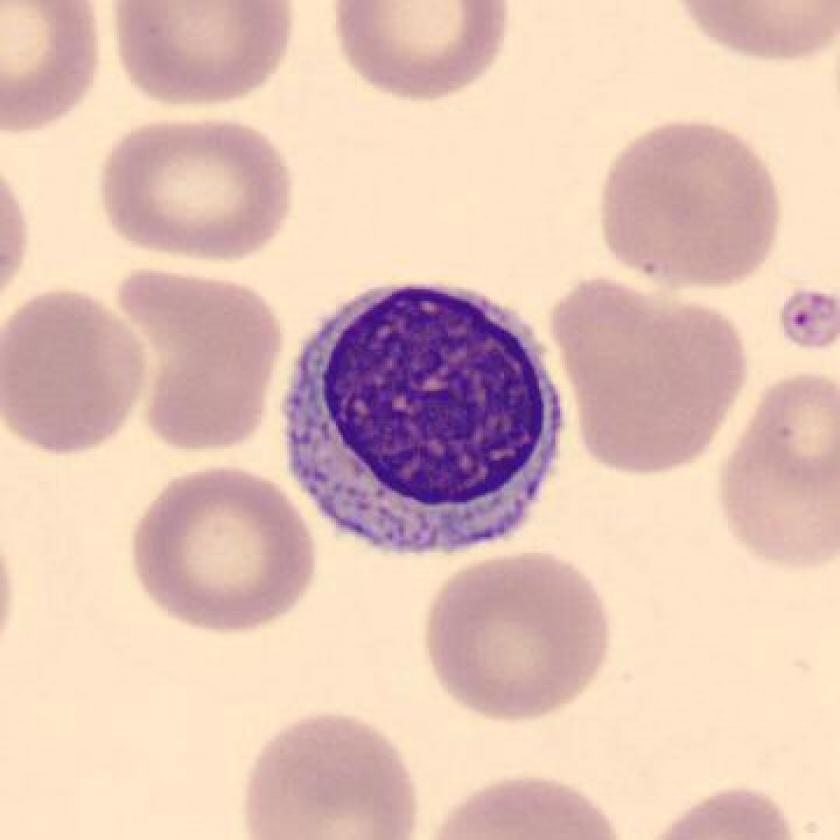lymphocyte: (270, 260, 585, 575)
